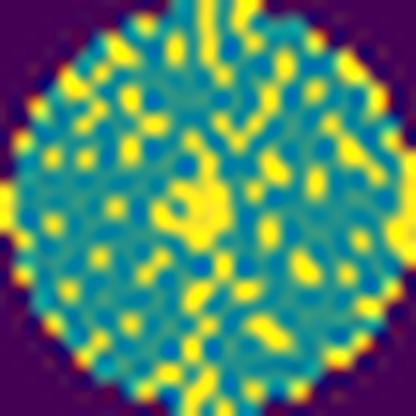Center: (146, 126, 238, 253)
